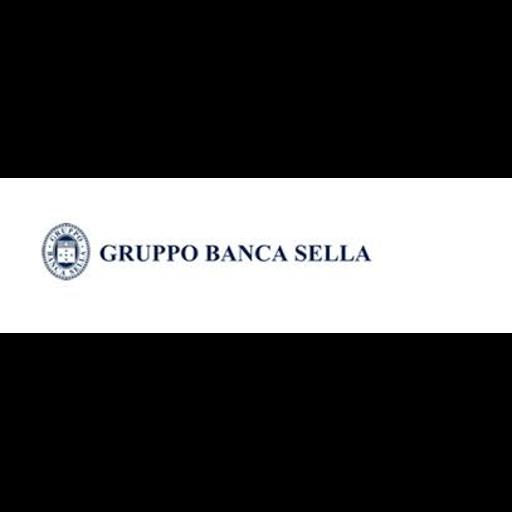Banca Sella: (0, 178, 512, 333)
